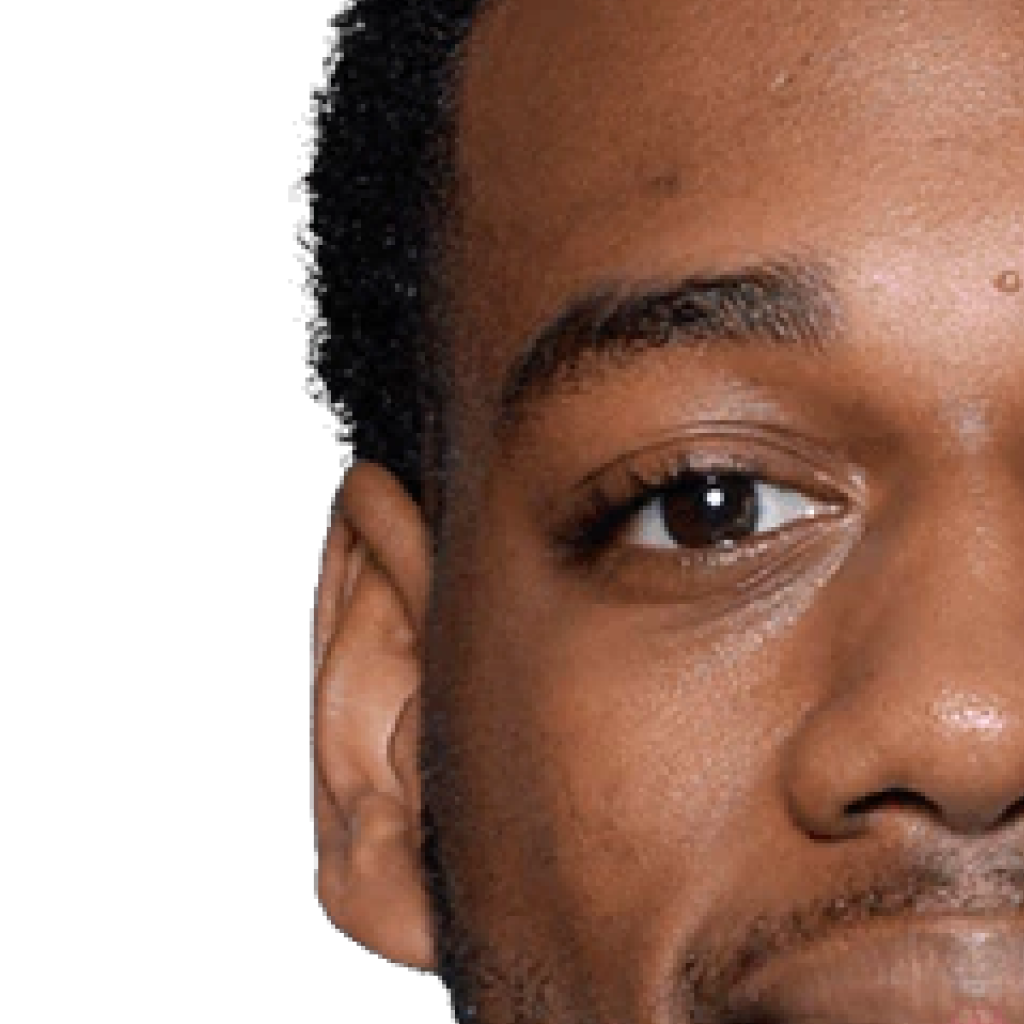iris: (664, 473, 756, 544)
pupil: (689, 473, 733, 517)
sclera: (754, 481, 808, 529), (621, 497, 673, 544)
